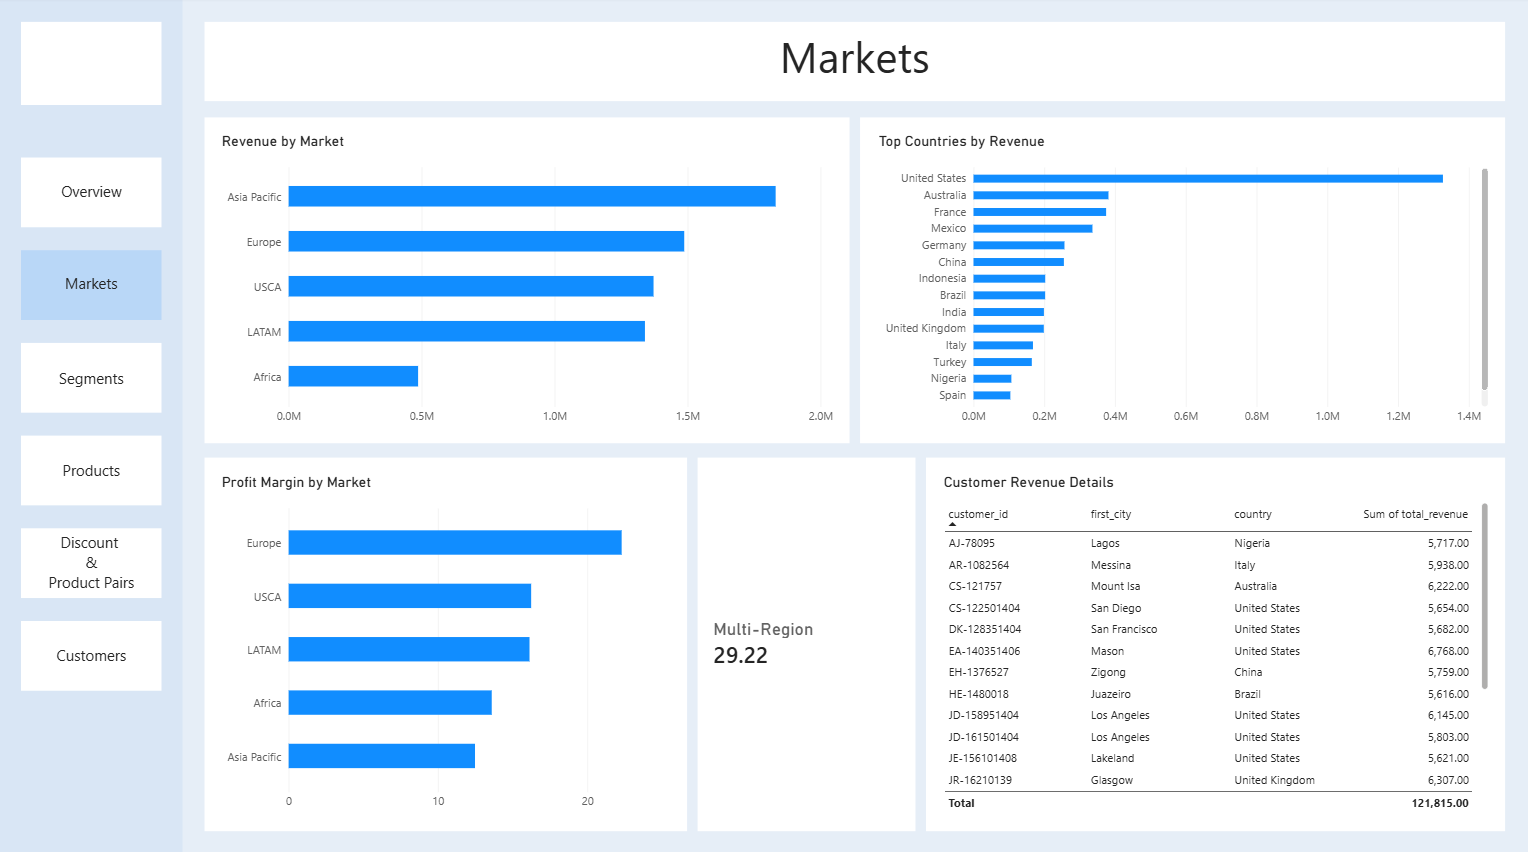

This screenshot's page, from the dashboard's own definition file:
{"tool":"powerbi","page":{"name":"Markets","canvas":[1920,1080],"ordinal":1},"visuals":[{"type":"clusteredBarChart","title":"Revenue by Market","fields":{"Category":["q06_profit_margin_by_market.market"],"Y":["Sum(q06_profit_margin_by_market.total_revenue)"]},"box":[262.9,155.7,800,401.4],"z":0},{"type":"clusteredBarChart","title":"Top Countries by Revenue","fields":{"Category":["q10_top_15_countries_by_revenue.country"],"Y":["Sum(q10_top_15_countries_by_revenue.total_revenue)"]},"box":[1087.1,155.7,797.1,401.4],"z":1000},{"type":"clusteredBarChart","title":"Profit Margin by Market","fields":{"Category":["q06_profit_margin_by_market.market"],"Y":["Sum(q06_profit_margin_by_market.profit_margin_pct)"]},"box":[262.9,584.3,592.9,457.1],"z":2000},{"type":"tableEx","title":"Customer Revenue Details","fields":{"Values":["q13_cross_market_customers.customer_id","q13_cross_market_customers.first_city","q13_cross_market_customers.country","Sum(q13_cross_market_customers.total_revenue)"]},"box":[1168.6,584.3,715.7,457.1],"z":3000},{"type":"cardVisual","fields":{"Data":["Max(q13_cross_market_customers.multi_region_pct_all)"]},"box":[878.6,584.3,265.7,457.1],"z":4000},{"type":"textbox","box":[258.6,37.1,1630,90],"z":5000},{"type":"textbox","box":[27.1,231.4,174.3,55.7],"z":6000},{"type":"textbox","box":[27.1,347.1,174.3,57.1],"z":7000},{"type":"textbox","box":[27.1,465.7,174.3,55.7],"z":8000},{"type":"textbox","box":[27.1,581.4,174.3,55.7],"z":9000},{"type":"textbox","box":[27.1,671.4,174.3,81.4],"z":10000},{"type":"textbox","box":[27.1,814.3,174.3,55.7],"z":11000},{"type":"actionButton","box":[27.1,348.6,174.3,55.7],"z":12000},{"type":"actionButton","box":[27.1,231.4,174.3,55.7],"z":13000},{"type":"actionButton","box":[27.1,465.7,174.3,55.7],"z":14000},{"type":"actionButton","box":[27.1,581.4,174.3,55.7],"z":15000},{"type":"actionButton","box":[27.1,671.4,174.3,81.4],"z":16000},{"type":"actionButton","box":[27.1,814.3,174.3,55.7],"z":17000}]}

Visuals, with their boxes on the page's 1920x1080 design canvas (x1, y1, x2, y2). These are canvas units, not pixel positions in the 1528x852 screenshot, which may show the page scaled, cropped or inside an application window:
"Revenue by Market" clusteredBarChart: 263 156 1063 557
"Top Countries by Revenue" clusteredBarChart: 1087 156 1884 557
"Profit Margin by Market" clusteredBarChart: 263 584 856 1041
"Customer Revenue Details" tableEx: 1169 584 1884 1041
cardVisual - Max(q13_cross_market_customers.multi_region_pct_all): 879 584 1144 1041
textbox: 259 37 1889 127
textbox: 27 231 201 287
textbox: 27 347 201 404
textbox: 27 466 201 521
textbox: 27 581 201 637
textbox: 27 671 201 753
textbox: 27 814 201 870
actionButton: 27 349 201 404
actionButton: 27 231 201 287
actionButton: 27 466 201 521
actionButton: 27 581 201 637
actionButton: 27 671 201 753
actionButton: 27 814 201 870
